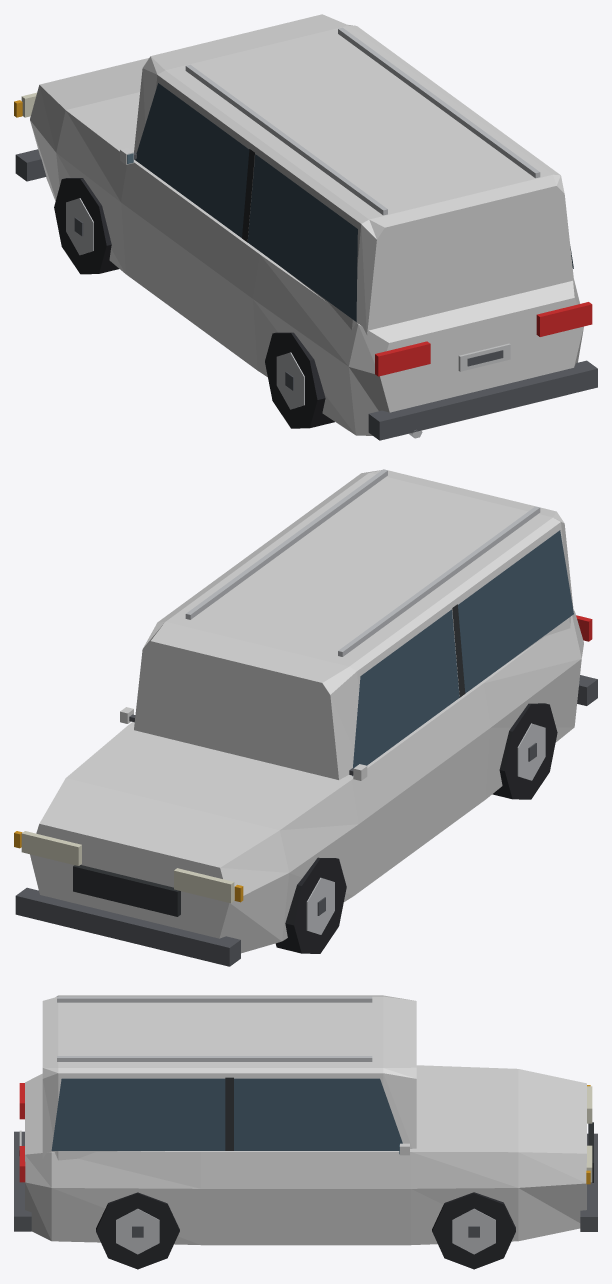
The model's file is minivan.glb.
The picture shows the model from 3 angles, top to bottom: view 1: azimuth 30°, elevation 25°; view 2: azimuth 150°, elevation 25°; view 3: azimuth 270°, elevation 25°; orthographic projection. The views are drawn at different scales.
Visible parts, largest first — view 1: Body, Wheel_RL, Wheel_FL; view 2: Body, Wheel_FL, Wheel_RL; view 3: Body, Wheel_FR, Wheel_RR.
Part boxes in pixels (x1,y1,x2,y2): Body: (14, 14, 597, 440); Wheel_RL: (265, 332, 334, 428); Wheel_FL: (54, 178, 118, 274); Body: (14, 469, 597, 966); Wheel_FL: (275, 857, 346, 953); Wheel_RL: (492, 703, 557, 799); Body: (14, 995, 597, 1245); Wheel_FR: (432, 1192, 515, 1269); Wheel_RR: (96, 1192, 179, 1269).
Size of the model in its own units: 2.03 by 1.95 by 5.28.
